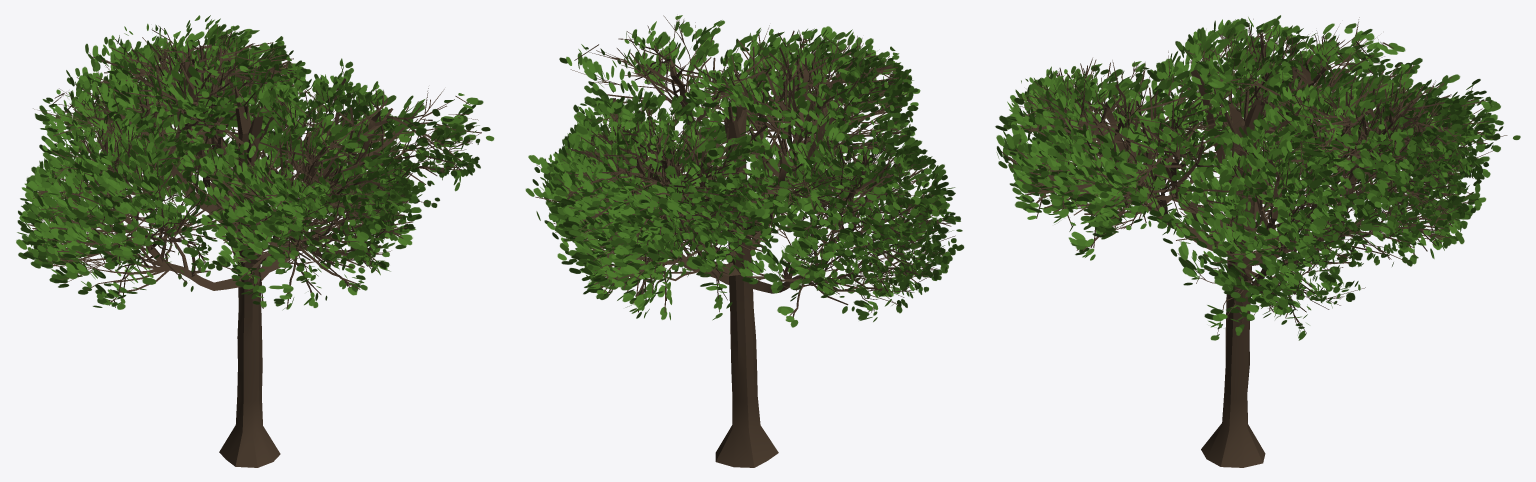
The picture shows the model from 3 angles, left to right: view 1: azimuth 30°, elevation 25°; view 2: azimuth 150°, elevation 25°; view 3: azimuth 270°, elevation 25°; orthographic projection. The views are drawn at different scales.
Parts seen in each view (by area): view 1: oak 01.001_trunk_Mat.001_0.020; view 2: oak 01.001_trunk_Mat.001_0.020; view 3: oak 01.001_trunk_Mat.001_0.020.
Boxes of the visible parts, box(x1,y1,x2,y2) form: oak 01.001_trunk_Mat.001_0.020: box(16, 15, 494, 467); oak 01.001_trunk_Mat.001_0.020: box(525, 15, 964, 467); oak 01.001_trunk_Mat.001_0.020: box(995, 15, 1520, 467).
Size of the model in its own units: 4.24 by 3.41 by 4.34.
2 materials, 1 textured.
